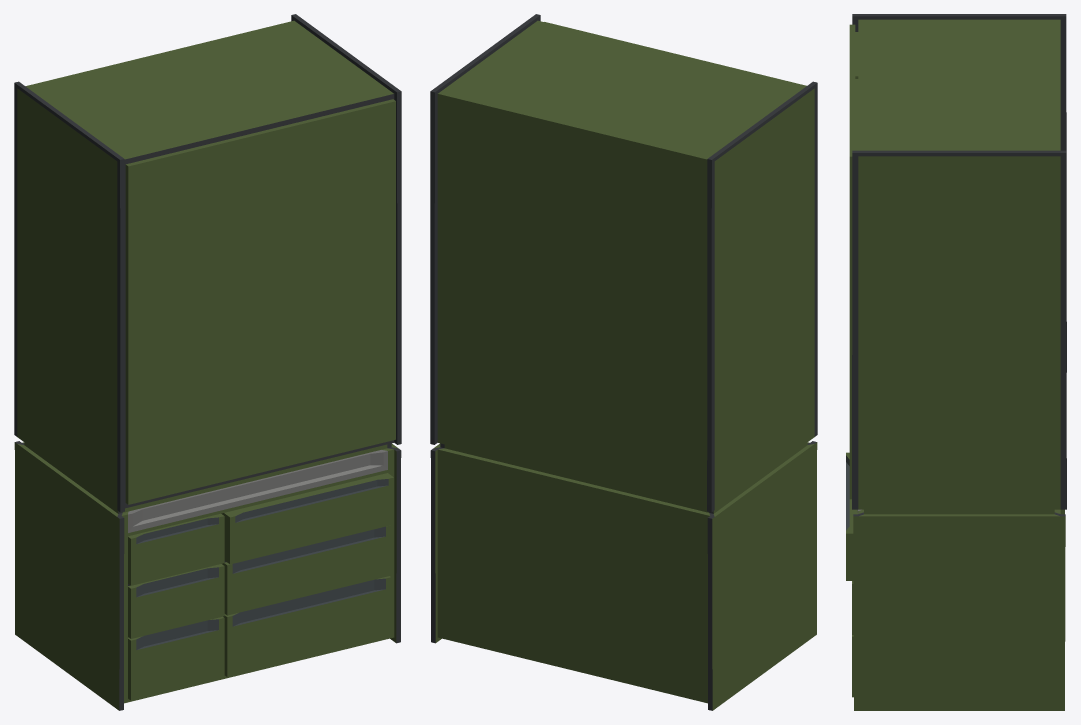
File: modernrefrigerator_01_B.gltf
3 views of the same model, side by side, from view 1: azimuth 30°, elevation 25°; view 2: azimuth 150°, elevation 25°; view 3: azimuth 270°, elevation 25° (orthographic).
Parts seen in each view (by area): view 1: modernrefrigerator_01_B, rightdoorofamodernrefrigerator_01_B, Leftdoorofamodernrefrigerator_01_B, pulloutrefrigeratorshelfright_01_03_B, pulloutrefrigeratorshelfright_01_01_B, pulloutrefrigeratorshelfright_01_02_B, pulloutrefrigeratorshelfleft_01_03_B, pulloutrefrigeratorshelfleft_01_02_B, pulloutrefrigeratorshelfleft_01_01_B; view 2: modernrefrigerator_01_B; view 3: modernrefrigerator_01_B, rightdoorofamodernrefrigerator_01_B, pulloutrefrigeratorshelfright_01_01_B, Leftdoorofamodernrefrigerator_01_B.
Part boxes in pixels (x1,y1,x2,y2): modernrefrigerator_01_B: (14,14,401,710); rightdoorofamodernrefrigerator_01_B: (224,99,395,481); Leftdoorofamodernrefrigerator_01_B: (125,140,225,504); pulloutrefrigeratorshelfright_01_03_B: (223,576,391,677); pulloutrefrigeratorshelfright_01_01_B: (221,473,393,564); pulloutrefrigeratorshelfright_01_02_B: (222,525,391,615); pulloutrefrigeratorshelfleft_01_03_B: (128,616,224,700); pulloutrefrigeratorshelfleft_01_02_B: (128,564,224,638); pulloutrefrigeratorshelfleft_01_01_B: (128,513,224,585); modernrefrigerator_01_B: (430,14,817,710); modernrefrigerator_01_B: (852,14,1066,710); rightdoorofamodernrefrigerator_01_B: (849,73,858,499); pulloutrefrigeratorshelfright_01_01_B: (846,452,857,580); Leftdoorofamodernrefrigerator_01_B: (849,24,858,78).
Size of the model in its own units: 1.3 by 2.43 by 0.873.
Materials: 1 (1 with a texture image).
